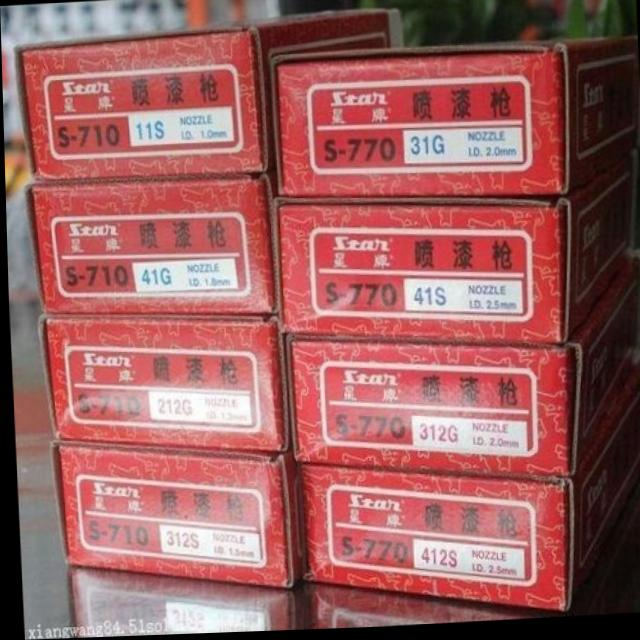box: (294, 368, 640, 617), (283, 255, 640, 482), (276, 154, 638, 348), (13, 12, 405, 182), (271, 40, 640, 199), (48, 444, 296, 588), (24, 178, 276, 319), (37, 316, 286, 453), (62, 566, 302, 639), (302, 587, 560, 629)
